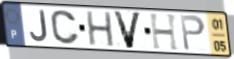C: (49, 9, 81, 47)
H: (148, 13, 181, 53), (85, 10, 116, 48)
J: (28, 9, 49, 43)
P: (179, 14, 207, 53)
V: (111, 10, 143, 50)
